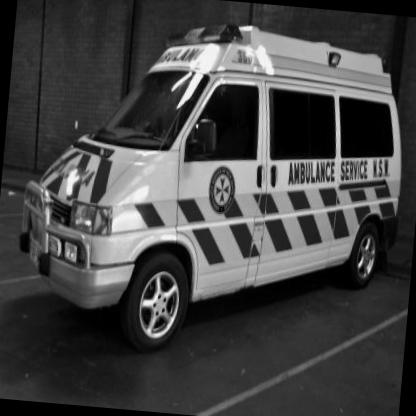ambulance: (3, 1, 416, 385)
